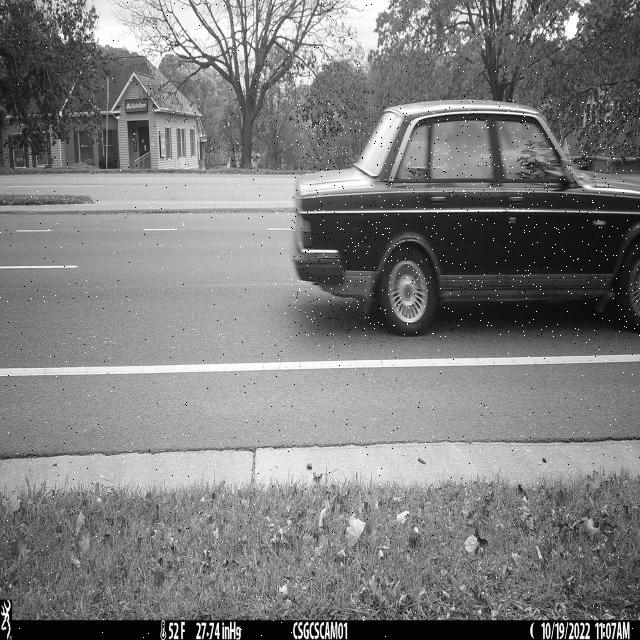Sedan: (291, 99, 640, 337)
